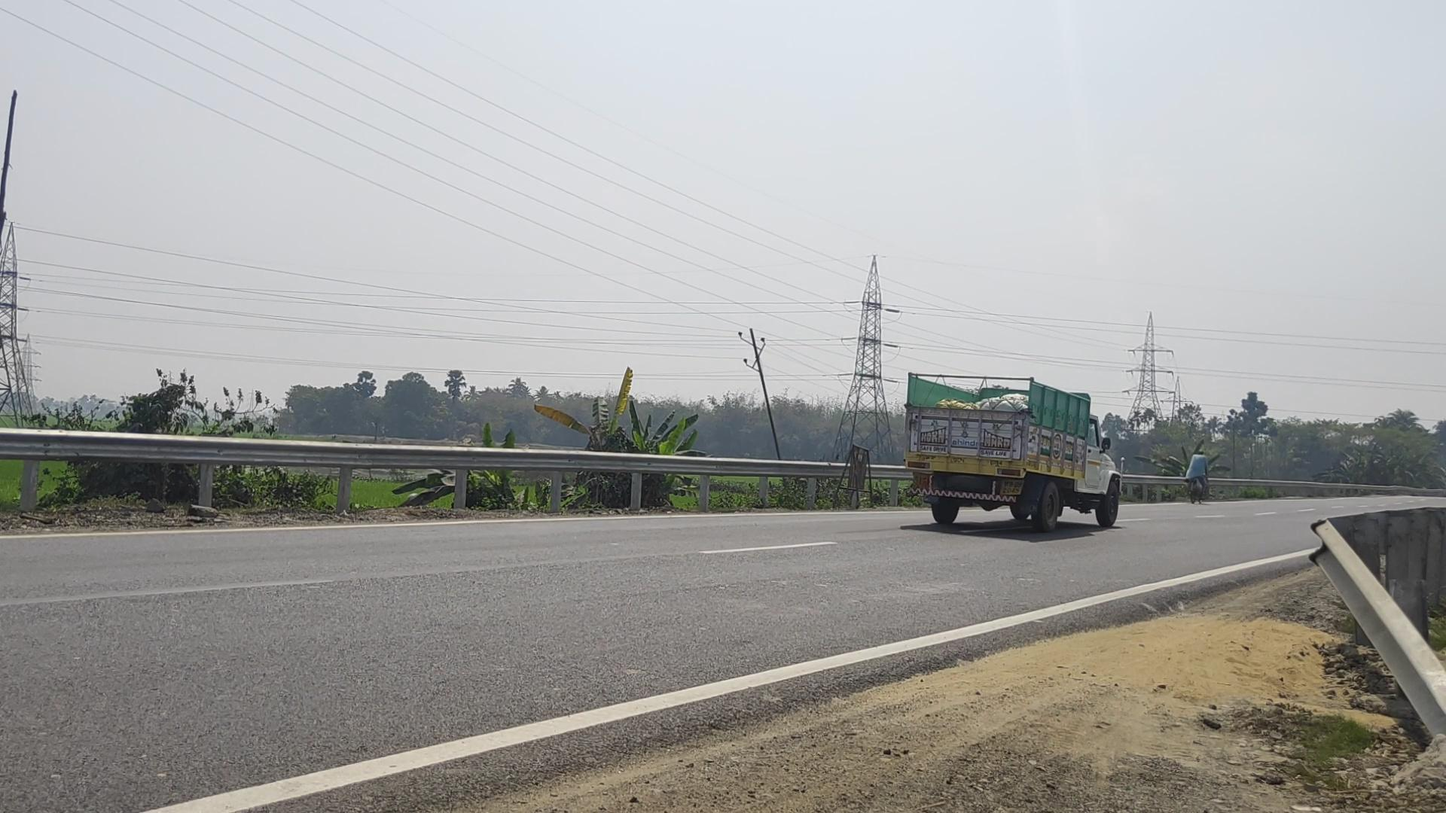bike: (1186, 449, 1209, 504)
van: (905, 373, 1124, 534)
